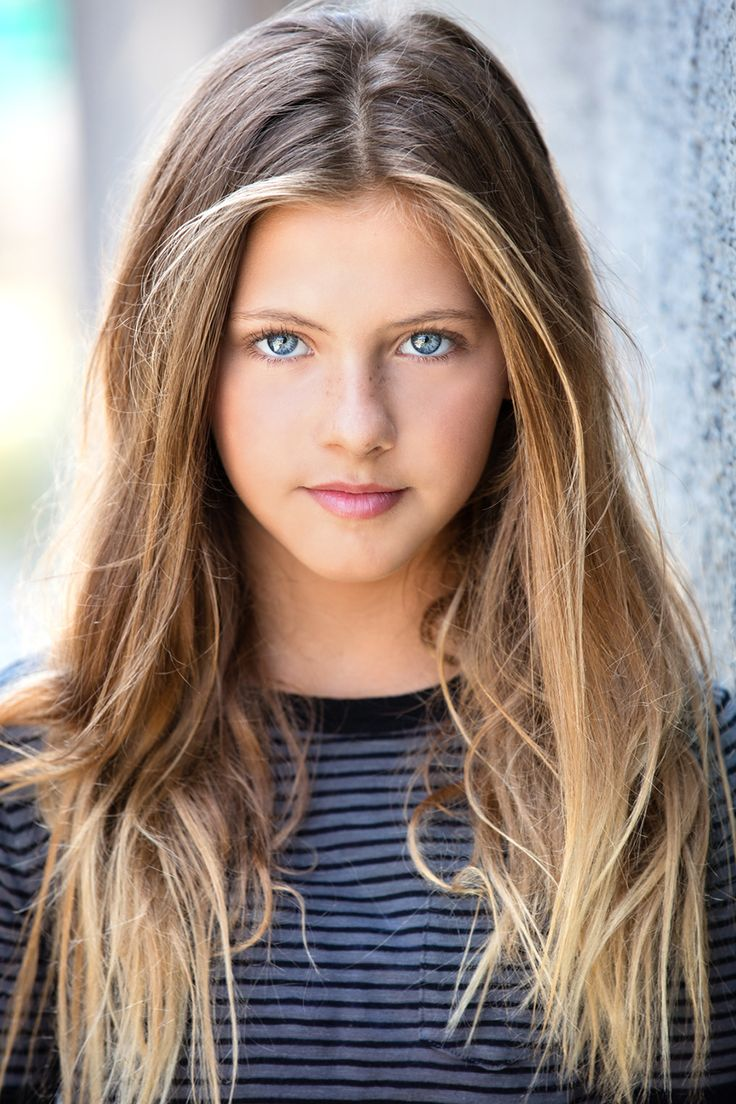without_mask: (217, 209, 498, 567)
